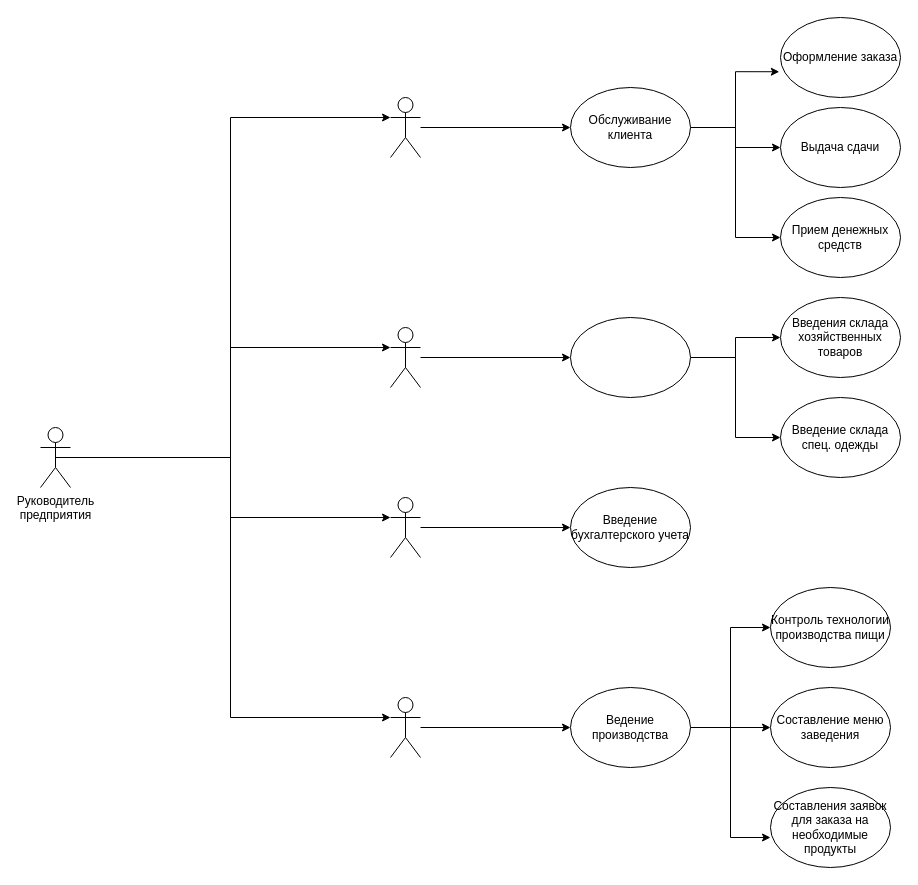
Some shapes in this 918 by 885 pixel diagram are drawn without their labels. Each missing label, with the box of its shape:
Бухгалтер: (390, 496, 420, 558)
Директор по хозяйству: (390, 326, 420, 388)
Кассир: (390, 96, 420, 158)
Склад: (570, 316, 690, 398)
Шефповар: (390, 696, 420, 758)
